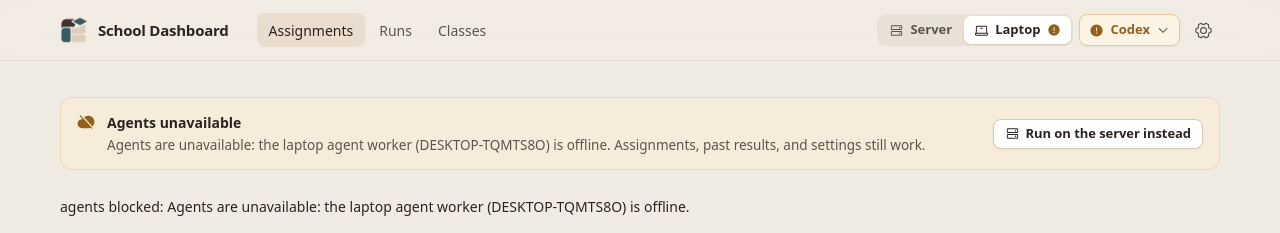
Test: AppShell agent availability › offers the server when the selected laptop is offline
expect the message shows "Agents are unavailable: the laptop agent worker (DESKTOP-TQMTS8O) is offline.": met, box 107,136 -> 611,154
Step 1. Click the button "Run on the server instead" → point(1098, 134), box 993,119 -> 1203,149
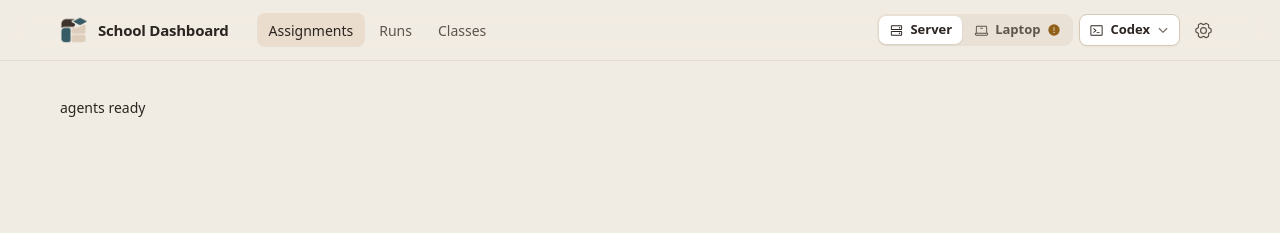
expect the text "agents ready" is shown: met, box 60,98 -> 145,117
expect the text "Agents unavailable" is gone: met
